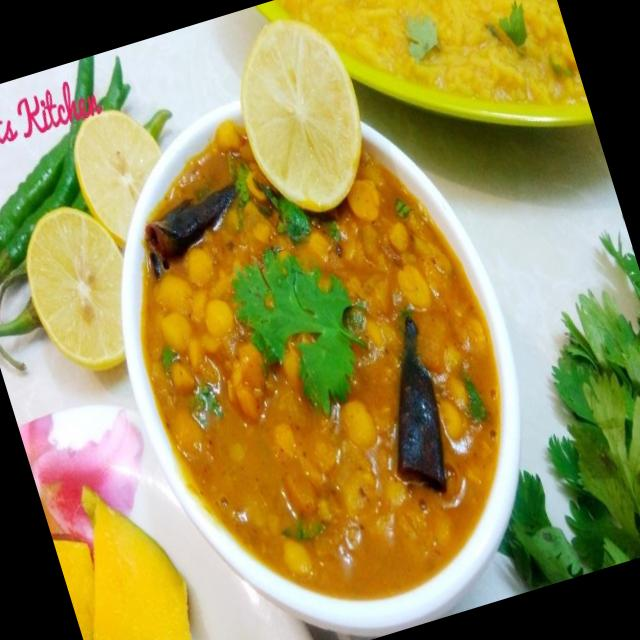dal: (74, 29, 561, 640)
